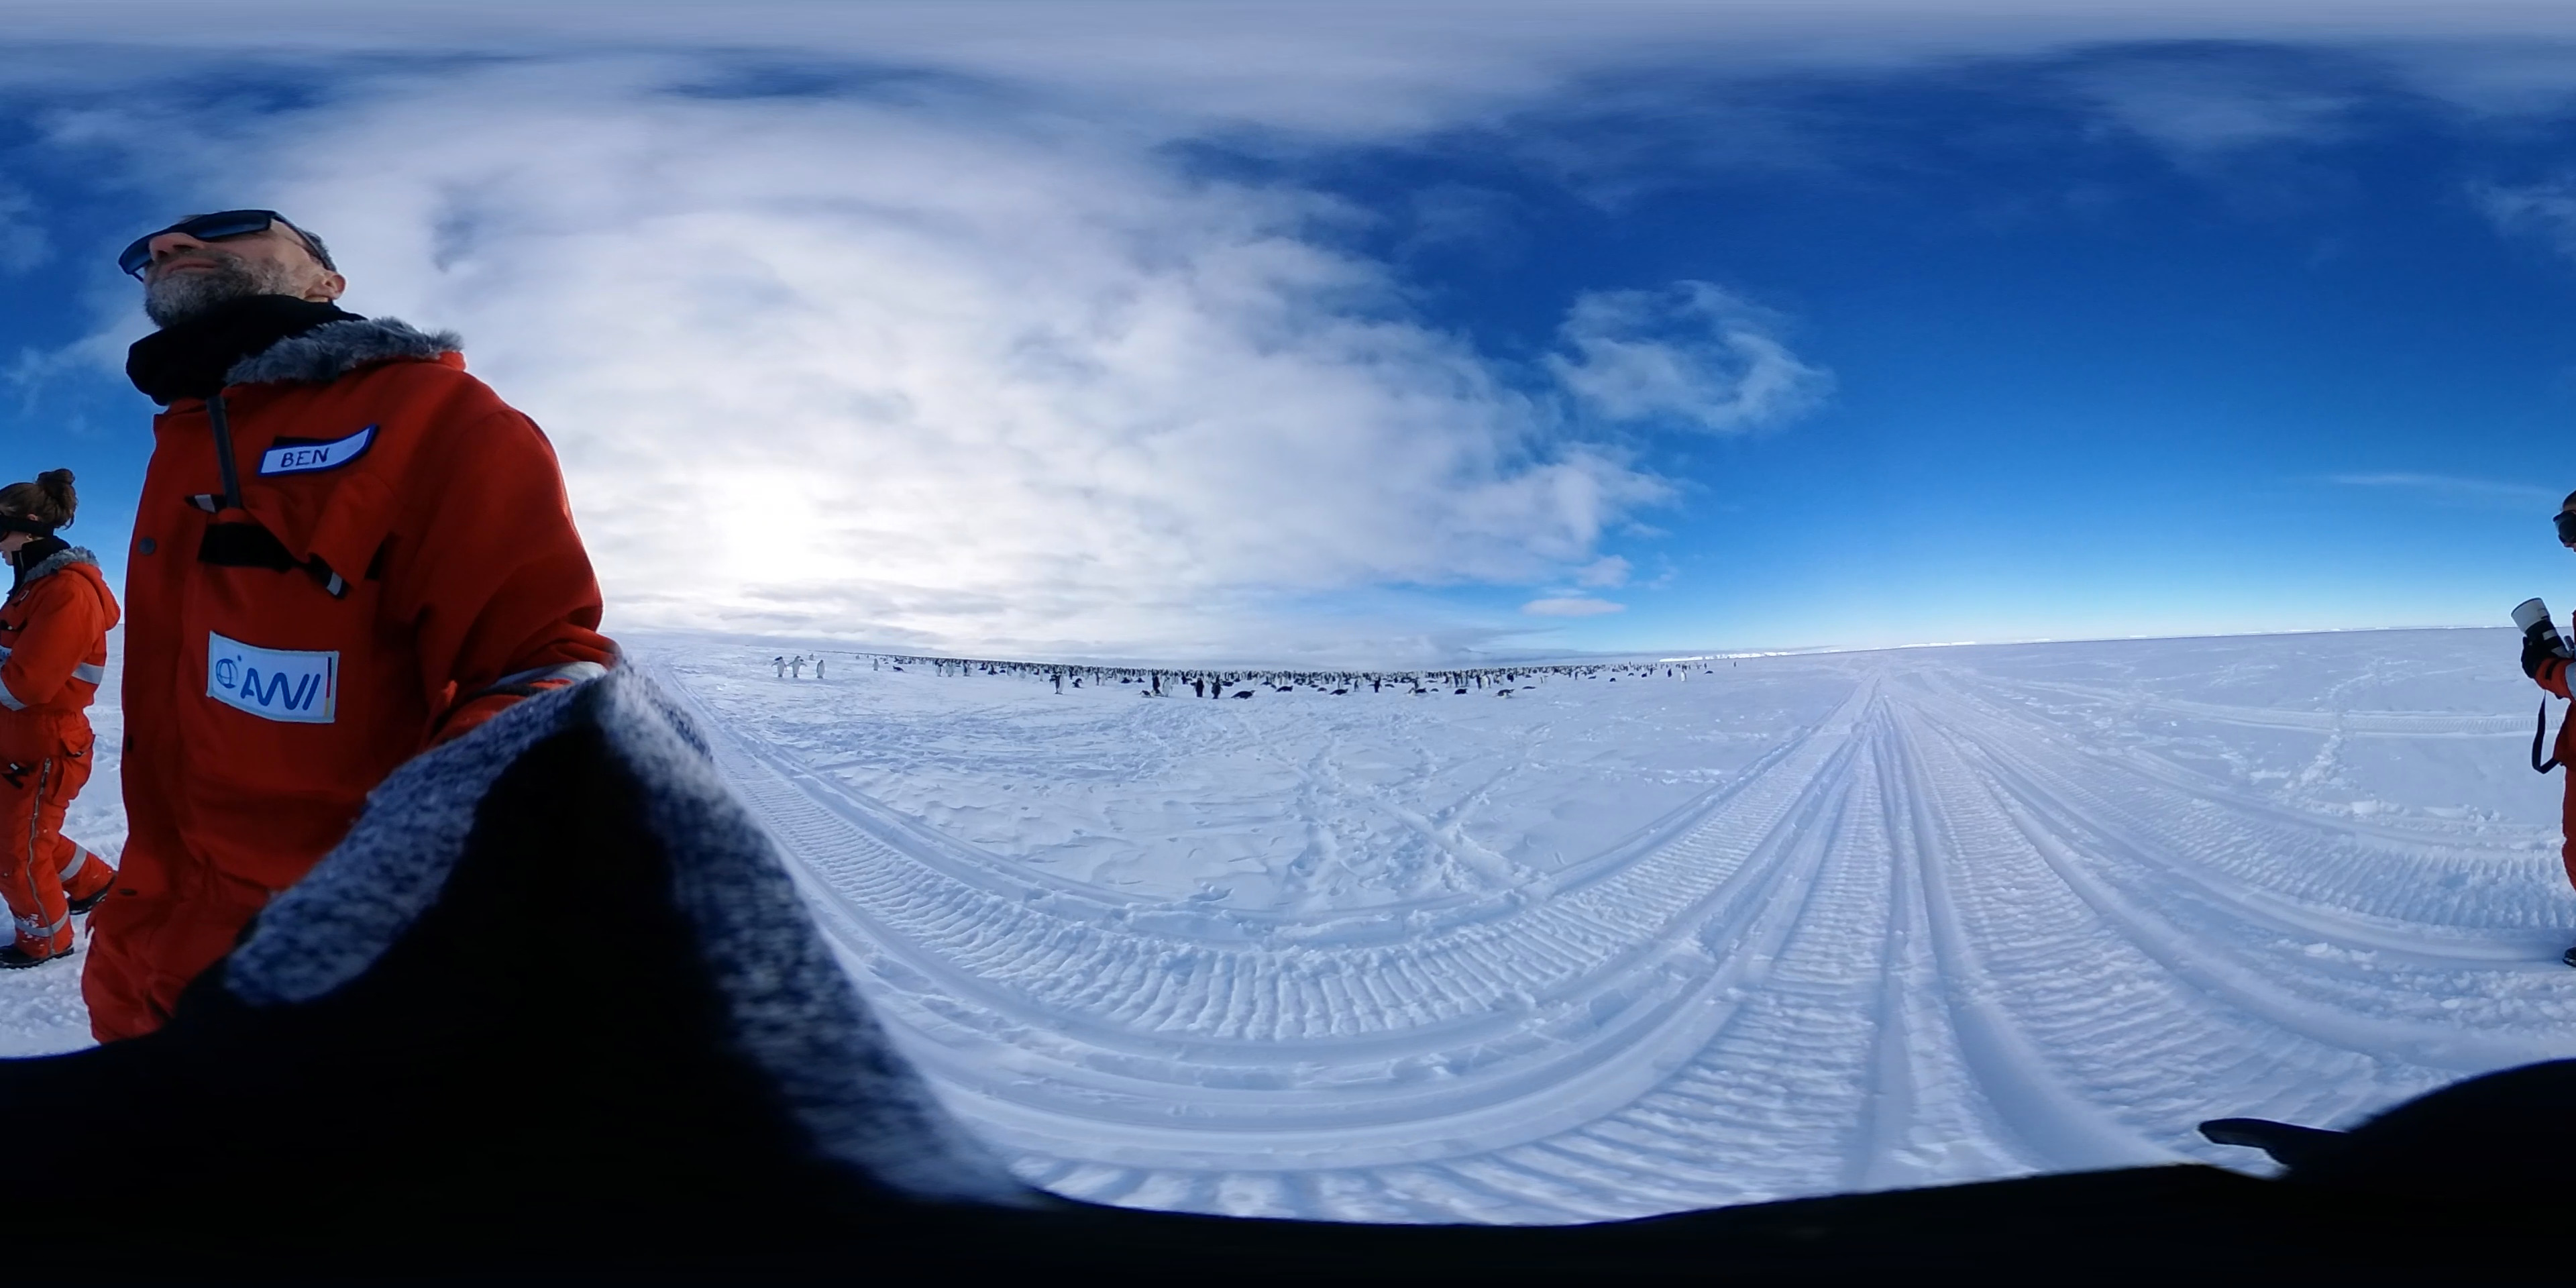adult_standing_penguin: (772, 655, 793, 678), (1211, 675, 1226, 703), (789, 651, 802, 680), (1053, 667, 1066, 693), (1193, 677, 1206, 698), (816, 657, 828, 678)
adult_toboggan_penguin: (1232, 688, 1257, 698), (1275, 682, 1295, 693), (1495, 690, 1516, 700)
researcher: (110, 215, 637, 1166), (0, 462, 125, 973)
